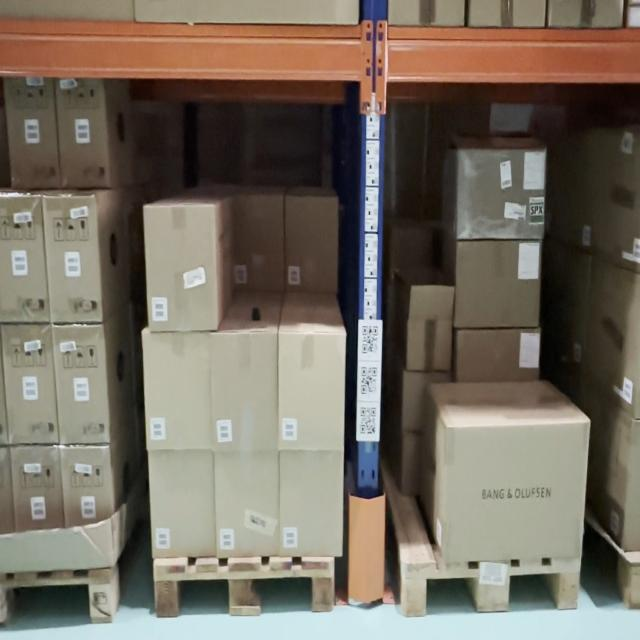box: (446, 426, 587, 552), (148, 204, 222, 324), (144, 334, 214, 450), (212, 329, 275, 452), (458, 152, 547, 235), (280, 334, 342, 450), (458, 242, 540, 326), (46, 196, 100, 318), (0, 195, 53, 317), (152, 451, 214, 555), (281, 455, 343, 557), (216, 455, 277, 555), (54, 325, 107, 440), (2, 327, 52, 436), (288, 195, 338, 284), (236, 198, 284, 290)
